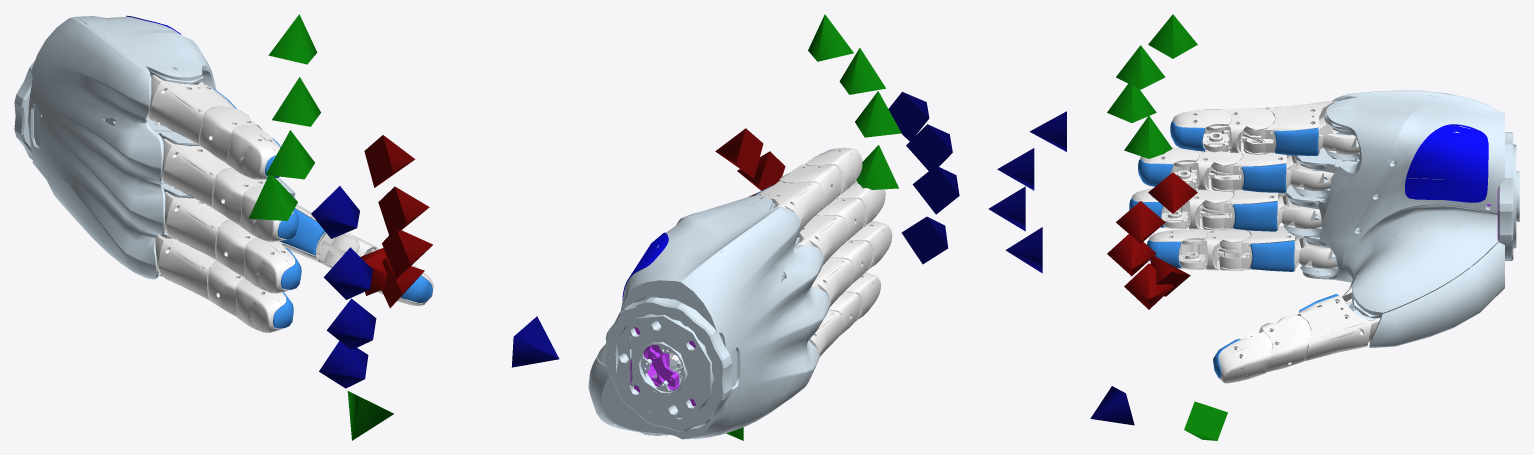
The model's file is hit-hand-2-left.dae.
3 views of the same model, side by side, from view 1: azimuth 30°, elevation 25°; view 2: azimuth 150°, elevation 25°; view 3: azimuth 270°, elevation 25° (orthographic). The views are drawn at different scales.
Parts seen in each view (by area): view 1: IndexedTriangleStripSet_6, IndexedTriangleStripSet_69, IndexedTriangleStripSet_132, IndexedTriangleStripSet_57, IndexedTriangleStripSet_47, IndexedTriangleStripSet_37, Cone_28, Cone_40, Cone_52, IndexedTriangleStripSet_27, IndexedTriangleStripSet_41, Cone_4 (+28 smaller); view 2: IndexedTriangleStripSet_6, IndexedTriangleStripSet_69, IndexedTriangleStripSet_132, IndexedTriangleStripSet_195, Cone_16, Cone_40, Cone_28, Cone_48, Cone_52, Cone_26, Cone_38, Cone_50 (+25 smaller); view 3: IndexedTriangleStripSet_6, IndexedTriangleStripSet_69, IndexedTriangleStripSet_132, IndexedTriangleStripSet_2, IndexedTriangleStripSet_15, IndexedTriangleStripSet_195, IndexedTriangleStripSet_57, IndexedTriangleStripSet_53, IndexedTriangleStripSet_21, IndexedTriangleStripSet_9, IndexedTriangleStripSet_23, IndexedTriangleStripSet_65 (+41 smaller).
Part boxes in pixels (left/top/right/bottom): IndexedTriangleStripSet_6: left=14, top=16, right=298, bottom=278; IndexedTriangleStripSet_69: left=14, top=16, right=294, bottom=279; IndexedTriangleStripSet_132: left=14, top=17, right=205, bottom=277; IndexedTriangleStripSet_57: left=146, top=75, right=233, bottom=145; IndexedTriangleStripSet_47: left=161, top=139, right=231, bottom=207; IndexedTriangleStripSet_37: left=164, top=192, right=228, bottom=260; Cone_28: left=327, top=298, right=376, bottom=350; Cone_40: left=323, top=247, right=372, bottom=299; Cone_52: left=311, top=186, right=359, bottom=238; IndexedTriangleStripSet_27: left=156, top=235, right=216, bottom=300; IndexedTriangleStripSet_41: left=244, top=237, right=294, bottom=293; Cone_4: left=511, top=316, right=559, bottom=367; IndexedTriangleStripSet_6: left=590, top=195, right=830, bottom=439; IndexedTriangleStripSet_69: left=588, top=195, right=830, bottom=438; IndexedTriangleStripSet_132: left=588, top=197, right=825, bottom=439; IndexedTriangleStripSet_195: left=590, top=208, right=830, bottom=437; Cone_16: left=901, top=216, right=948, bottom=264; Cone_40: left=906, top=124, right=952, bottom=173; Cone_28: left=912, top=167, right=959, bottom=214; Cone_48: left=715, top=128, right=763, bottom=178; Cone_52: left=888, top=92, right=929, bottom=141; Cone_26: left=855, top=91, right=901, bottom=137; Cone_38: left=839, top=48, right=885, bottom=94; Cone_50: left=808, top=14, right=853, bottom=61; IndexedTriangleStripSet_6: left=1284, top=90, right=1519, bottom=347; IndexedTriangleStripSet_69: left=1283, top=90, right=1519, bottom=346; IndexedTriangleStripSet_132: left=1284, top=91, right=1519, bottom=346; IndexedTriangleStripSet_2: left=1405, top=124, right=1488, bottom=202; IndexedTriangleStripSet_15: left=1275, top=297, right=1379, bottom=358; IndexedTriangleStripSet_195: left=1305, top=94, right=1513, bottom=345; IndexedTriangleStripSet_57: left=1242, top=101, right=1337, bottom=155; IndexedTriangleStripSet_53: left=1202, top=108, right=1274, bottom=154; IndexedTriangleStripSet_21: left=1218, top=335, right=1271, bottom=383; IndexedTriangleStripSet_9: left=1245, top=314, right=1310, bottom=371; IndexedTriangleStripSet_23: left=1179, top=228, right=1250, bottom=270; IndexedTriangleStripSet_65: left=1405, top=124, right=1487, bottom=200.
Size of the model in its own units: 0.1831 by 0.2626 by 0.3192.
